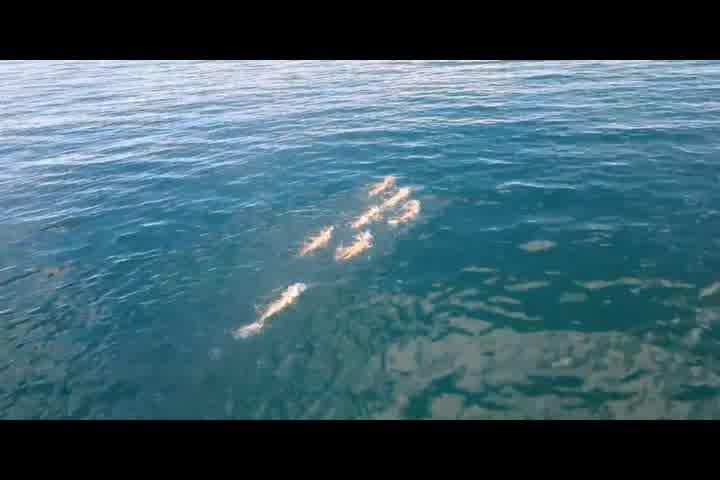human: (253, 279, 306, 328), (336, 229, 374, 260), (300, 225, 332, 260)
